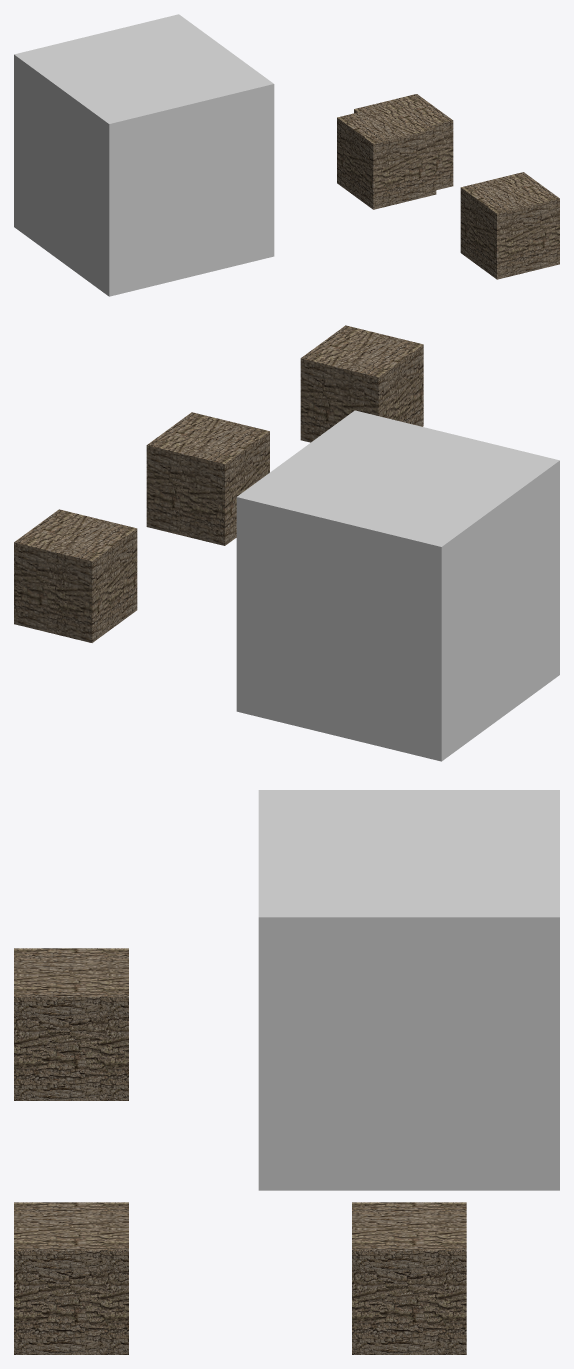
3 views of the same model, one above another, from view 1: azimuth 30°, elevation 25°; view 2: azimuth 150°, elevation 25°; view 3: azimuth 270°, elevation 25° (orthographic). The views are drawn at different scales.
Visible parts, largest first — view 1: c2, c4, c3, c1; view 2: c2, c1, c4, c3; view 3: c2, c1, c4, c3.
Boxes of the visible parts, x1=… form: c2: x1=14, y1=14, x2=274, y2=296; c4: x1=460, y1=172, x2=559, y2=279; c3: x1=337, y1=102, x2=436, y2=209; c1: x1=354, y1=94, x2=453, y2=190; c2: x1=236, y1=410, x2=559, y2=761; c1: x1=14, y1=509, x2=137, y2=642; c4: x1=146, y1=412, x2=269, y2=545; c3: x1=300, y1=325, x2=423, y2=442; c2: x1=258, y1=790, x2=559, y2=1190; c1: x1=352, y1=1202, x2=466, y2=1354; c4: x1=14, y1=1202, x2=128, y2=1354; c3: x1=14, y1=948, x2=128, y2=1100.
Size of what is drawn, in the model's own units: 11.88 by 5.31 by 9.51.
2 materials, 1 textured.
